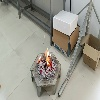fire: (45, 46, 51, 68), (38, 56, 41, 63)
